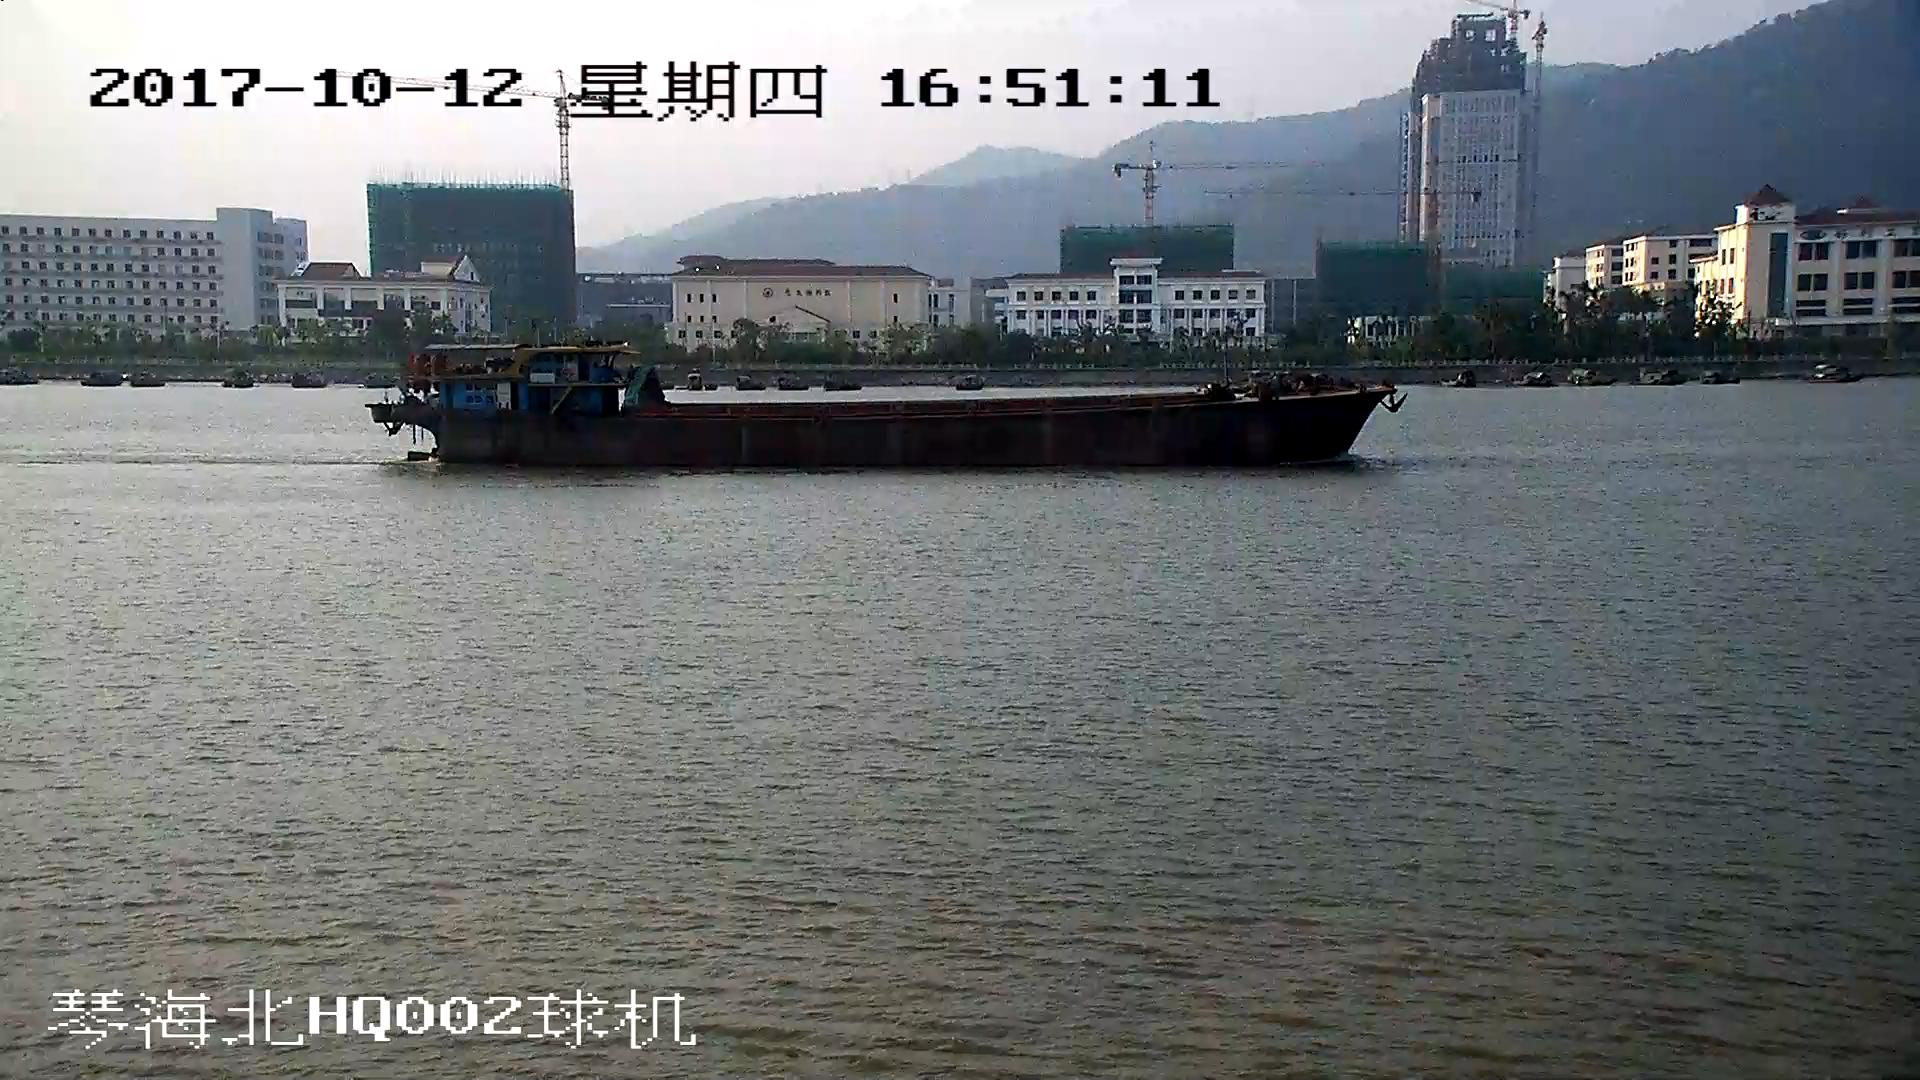bulk cargo carrier: (370, 345, 1393, 473)
